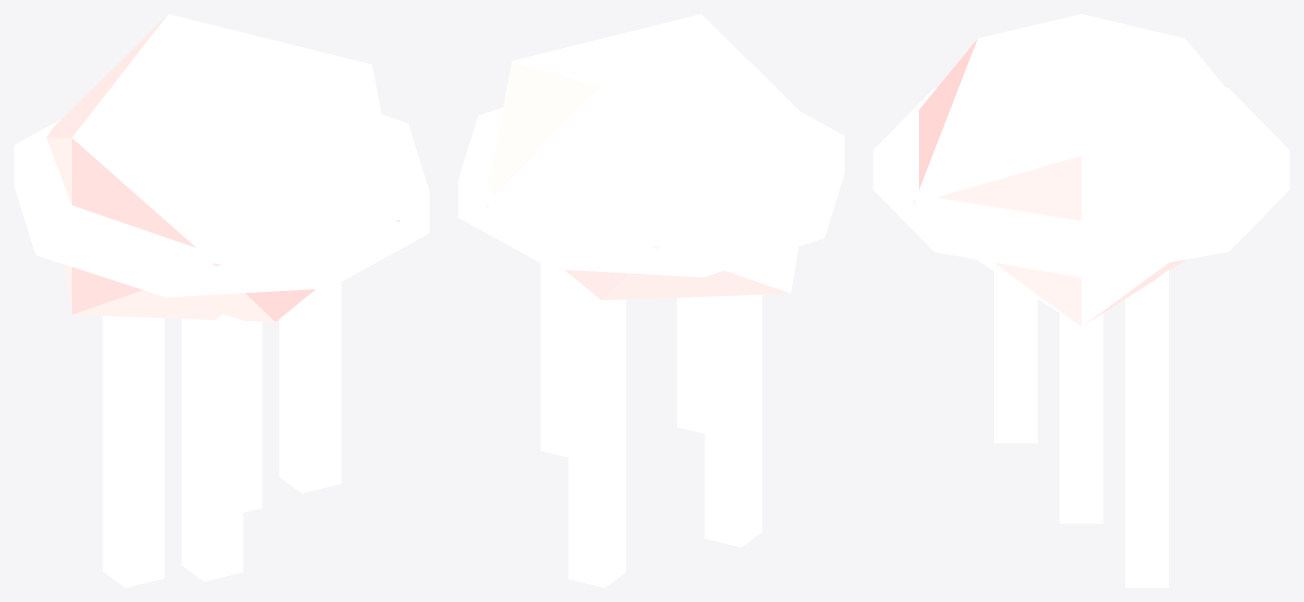
Rendered from jelly.glb.
The picture shows the model from 3 angles, left to right: view 1: azimuth 30°, elevation 25°; view 2: azimuth 150°, elevation 25°; view 3: azimuth 270°, elevation 25°; orthographic projection. The views are drawn at different scales.
Visible parts, largest first — view 1: Dome, Rim, T1, T3, T0, T2; view 2: Dome, Rim, T2, T1, T0, T3; view 3: Dome, Rim, T2, T0, T3.
Part boxes in pixels (box(x1,y1,x2,y2)): Dome: box(46, 14, 401, 322); Rim: box(14, 114, 429, 297); T1: box(102, 316, 164, 587); T3: box(200, 314, 262, 517); T0: box(279, 282, 341, 493); T2: box(181, 318, 243, 581); Dome: box(484, 14, 814, 300); Rim: box(458, 107, 844, 277); T2: box(568, 273, 625, 587); T1: box(704, 294, 762, 547); T0: box(540, 263, 568, 457); T3: box(677, 296, 704, 433); Dome: box(913, 14, 1249, 326); Rim: box(873, 87, 1289, 277); T2: box(1125, 269, 1168, 587); T0: box(1059, 313, 1103, 523); T3: box(994, 271, 1037, 443).
Bounding box in the file's own units: 0.76 × 1.06 × 0.76.
